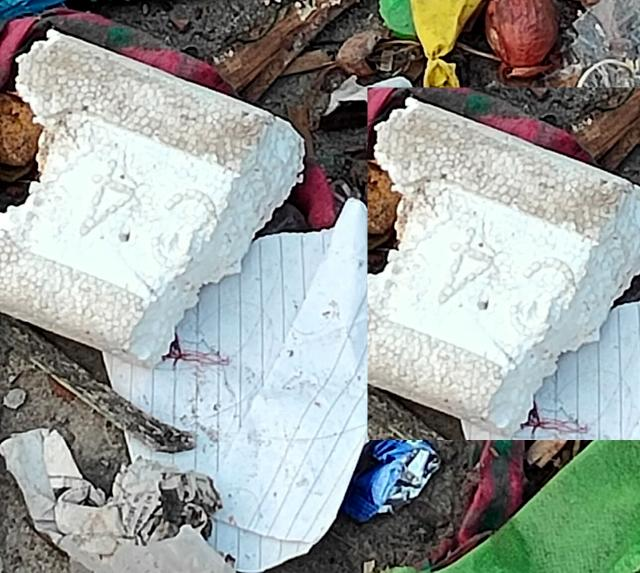cocksheet: (0, 24, 323, 401), (327, 107, 638, 447)
